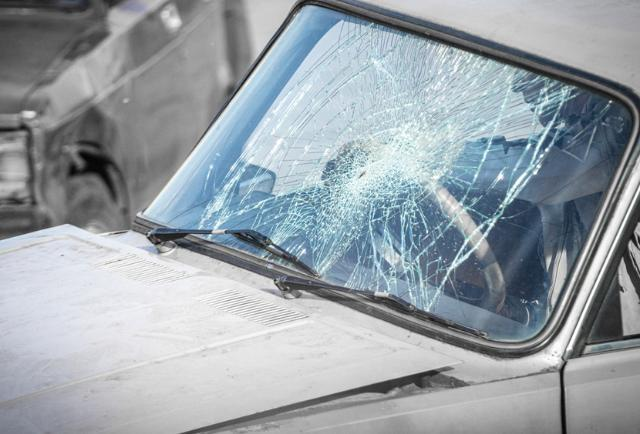Bumper: (142, 11, 637, 341)
